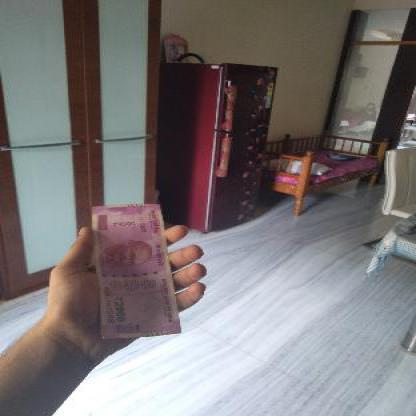New2000Front: (90, 205, 178, 343)
